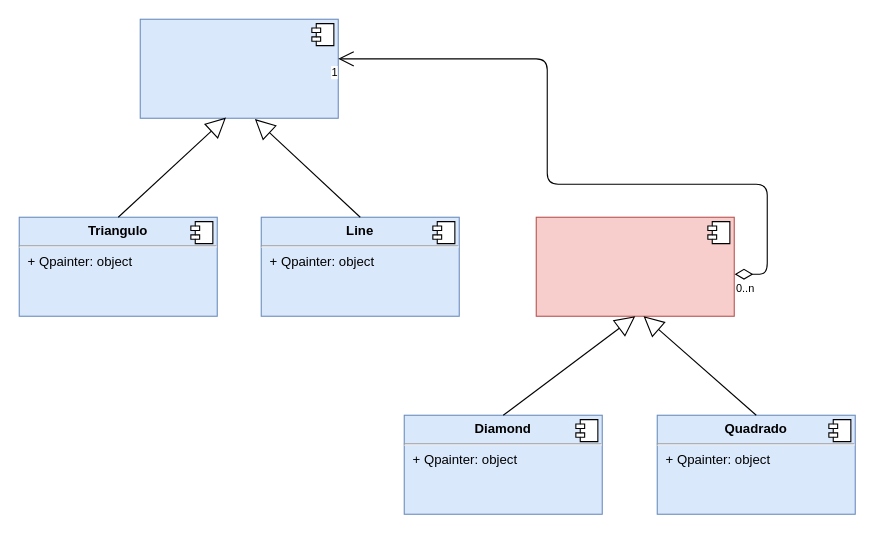
Some shapes in this 875 by 534 pixel diagram are drawn without their labels. The shapes that lost their labels are listed below. From the top down, each one's centre as x and y in pixels, then its label:
the point at 238,68: Ponto + Qpainter: object + Qpen: pen
the point at 634,266: PontoComposite + Qpainter: object + Qpen: pen
